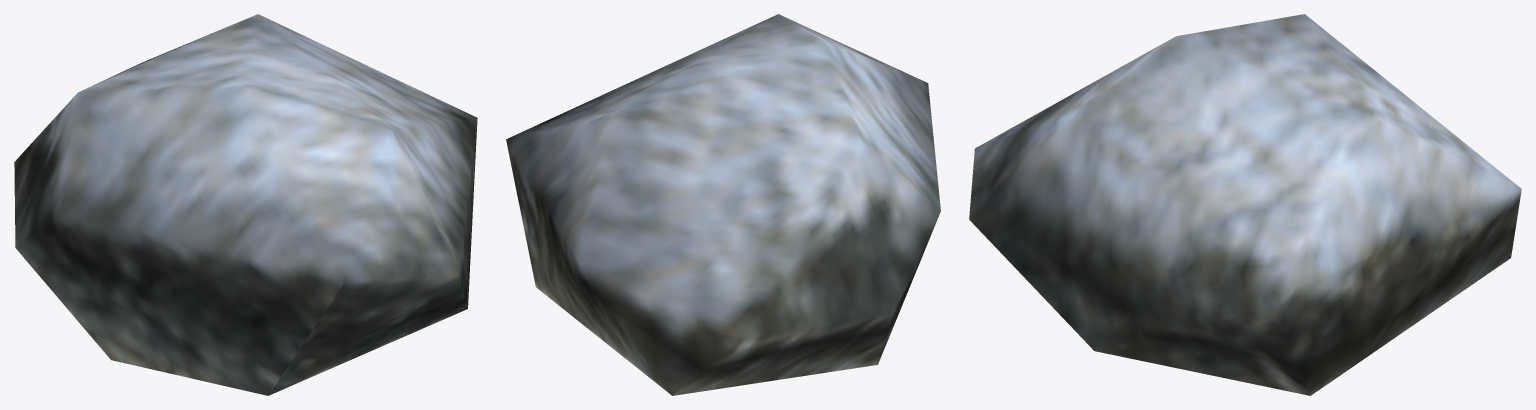
Rendered from SC_bingfengyiji_shitou01.FBX.
3 renders of one model, left to right at view 1: azimuth 30°, elevation 25°; view 2: azimuth 150°, elevation 25°; view 3: azimuth 270°, elevation 25°, orthographic. The views are drawn at different scales.
Visible parts, largest first — view 1: SC_bingfengyiji_shitou01; view 2: SC_bingfengyiji_shitou01; view 3: SC_bingfengyiji_shitou01.
Boxes of the visible parts, x1,y1,x2,y2 form: SC_bingfengyiji_shitou01: [14, 14, 477, 395]; SC_bingfengyiji_shitou01: [506, 14, 940, 395]; SC_bingfengyiji_shitou01: [969, 14, 1521, 395].
Bounding box in the file's own units: 91.34 × 56.41 × 104.
